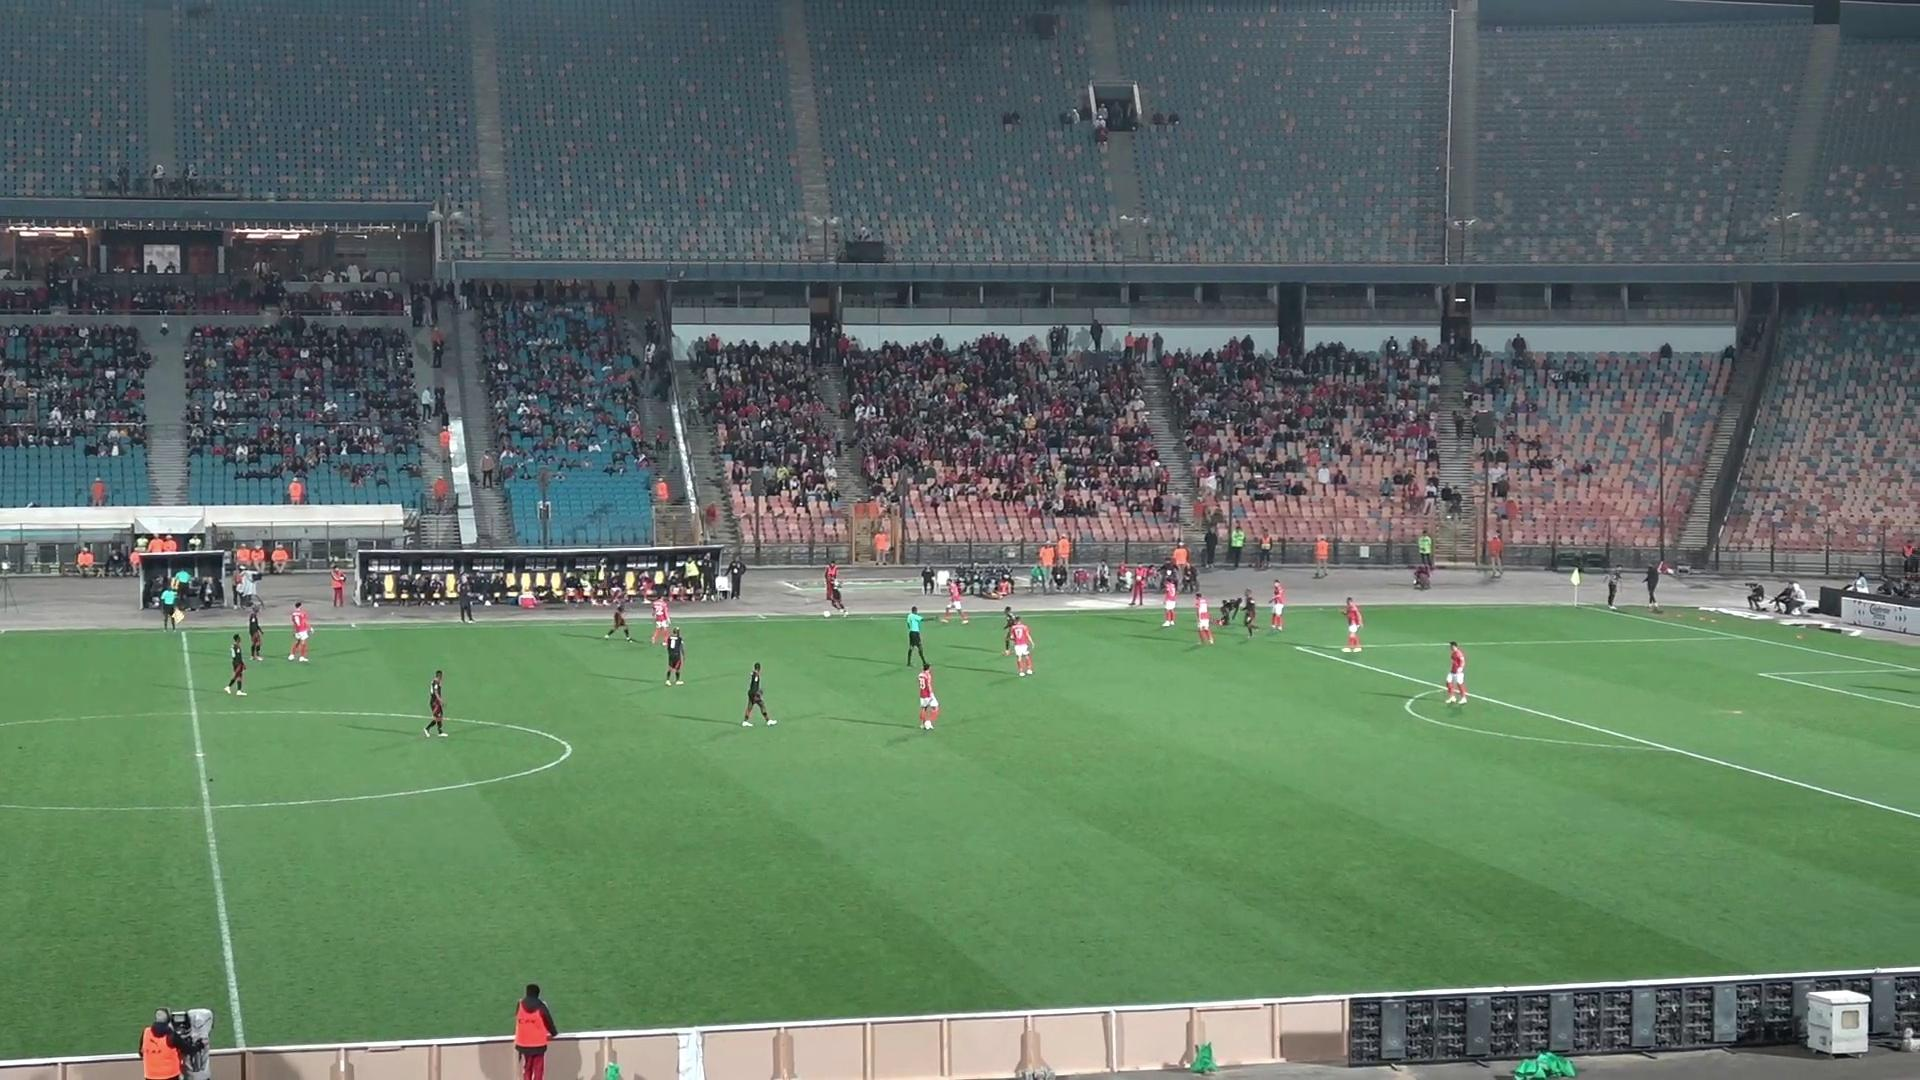Refree: (903, 607, 928, 669), (160, 585, 185, 629)
Team1: (1004, 613, 1034, 675), (1440, 641, 1469, 703), (287, 603, 313, 662), (918, 665, 940, 731), (942, 579, 968, 622), (1342, 597, 1364, 651), (1266, 579, 1287, 632), (1193, 595, 1215, 644), (649, 596, 670, 644), (1160, 576, 1178, 626)
Team2: (740, 663, 775, 725), (655, 626, 686, 683), (222, 633, 248, 695), (422, 670, 444, 737), (603, 603, 633, 640), (1238, 589, 1257, 640), (1213, 597, 1242, 626), (249, 607, 264, 661)
